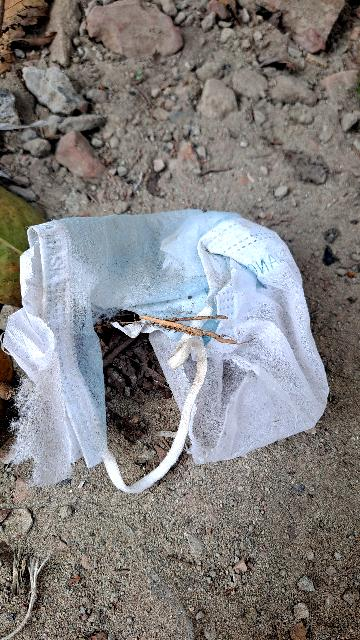mask: (26, 211, 316, 448)
